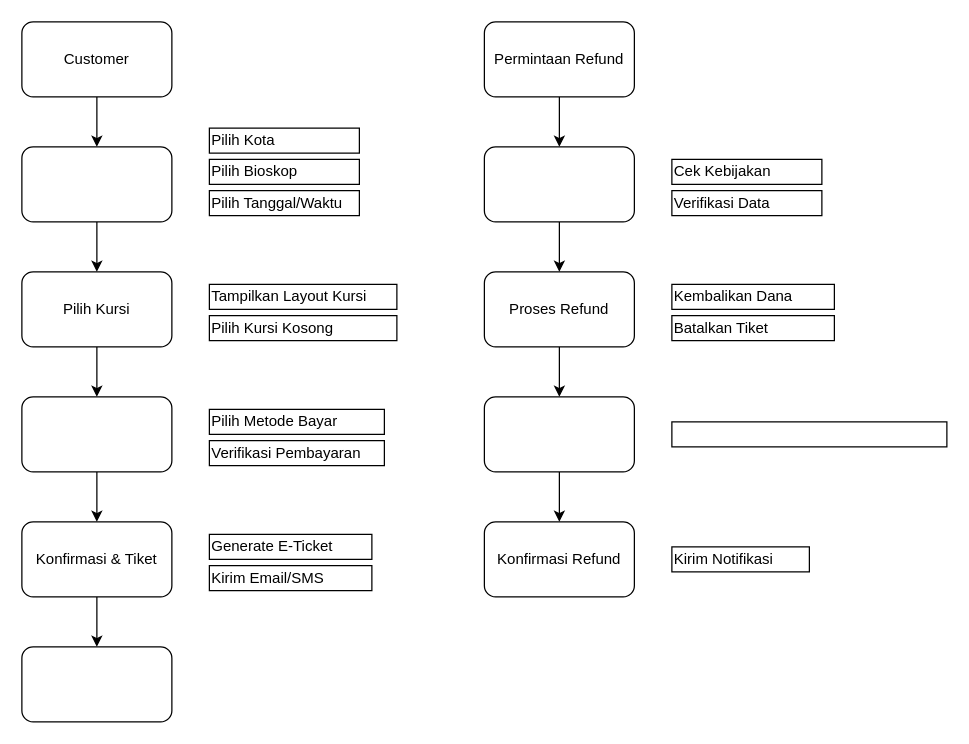
Image size: 969x744. Some labels were removed from this diagram. The shapes that lost their labels are listed below. From the top down, each one's centre as x and y in pixels, then its label:
[96,184]: Cari Jadwal Film
[558,184]: Validasi Refund
[96,434]: Proses Pembayaran
[558,434]: Restok Kursi
[809,434]: Kembalikan Kursi ke Pool Available
[96,684]: Selesai
